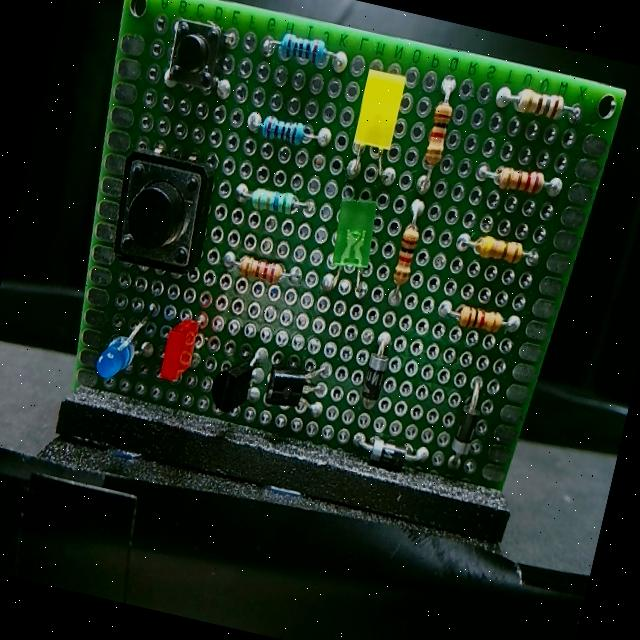diode: (442, 376, 492, 476), (346, 427, 423, 482), (348, 336, 400, 417)
led: (332, 54, 418, 176), (320, 186, 386, 296), (156, 303, 218, 392), (83, 318, 146, 385)
resistor: (429, 290, 518, 348), (375, 214, 426, 309), (498, 68, 574, 128), (412, 82, 462, 171), (456, 222, 524, 287), (480, 154, 556, 209), (262, 26, 342, 77), (244, 103, 316, 153), (230, 245, 294, 292), (244, 177, 304, 226)
switch: (96, 124, 221, 288), (154, 8, 236, 96)
transistor: (204, 340, 261, 430), (252, 349, 325, 415)
